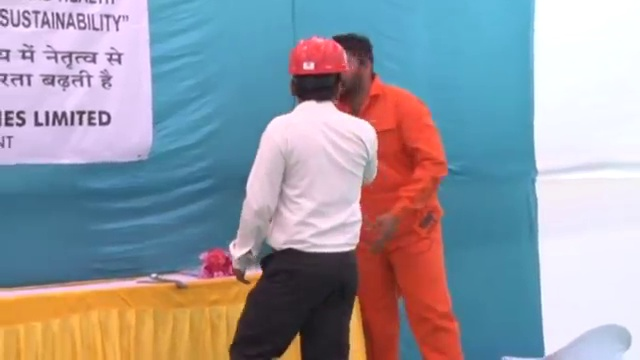helmet: (287, 33, 350, 77)
helmet_off: (335, 33, 377, 96)
helmet_on: (285, 32, 351, 112)
person: (226, 36, 377, 360), (334, 33, 466, 360)
